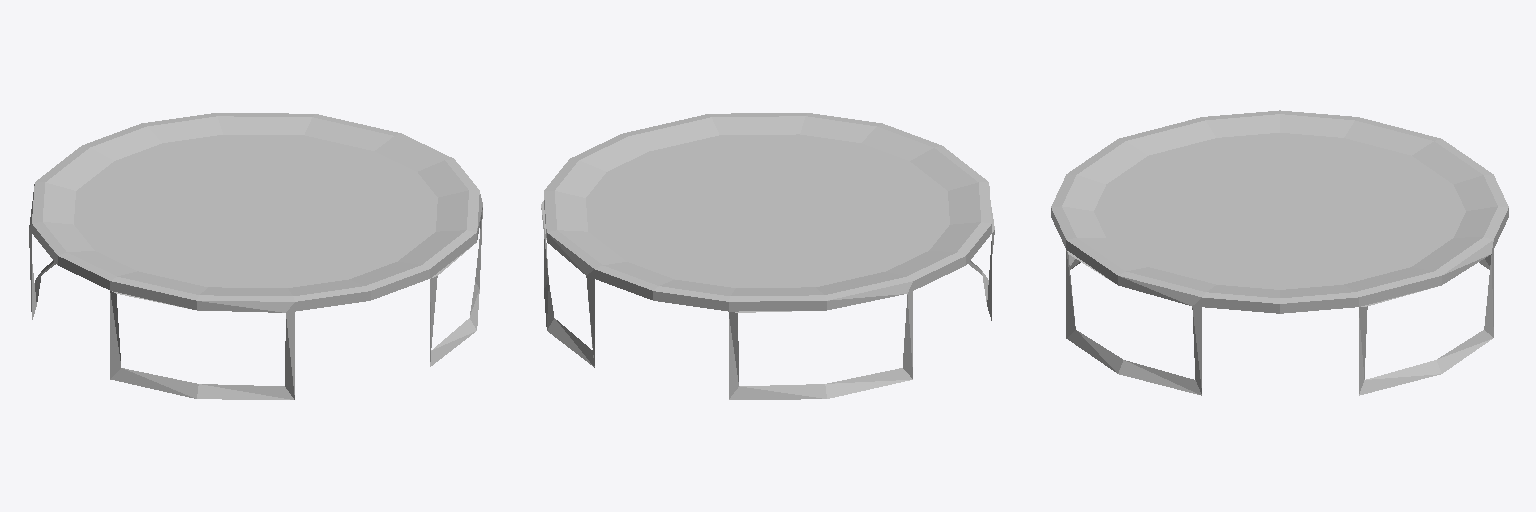
Rendered from tramoline.obj.
3 views of the same model, side by side, from view 1: azimuth 30°, elevation 25°; view 2: azimuth 150°, elevation 25°; view 3: azimuth 270°, elevation 25° (orthographic).
Visible parts, largest first — view 1: Cylinder.002; view 2: Cylinder.002; view 3: Cylinder.002.
Boxes of the visible parts, x1=… form: Cylinder.002: x1=29, y1=113, x2=482, y2=399; Cylinder.002: x1=541, y1=113, x2=994, y2=399; Cylinder.002: x1=1051, y1=110, x2=1508, y2=395.
Size of the model in its own units: 7.88 by 1.89 by 7.88.